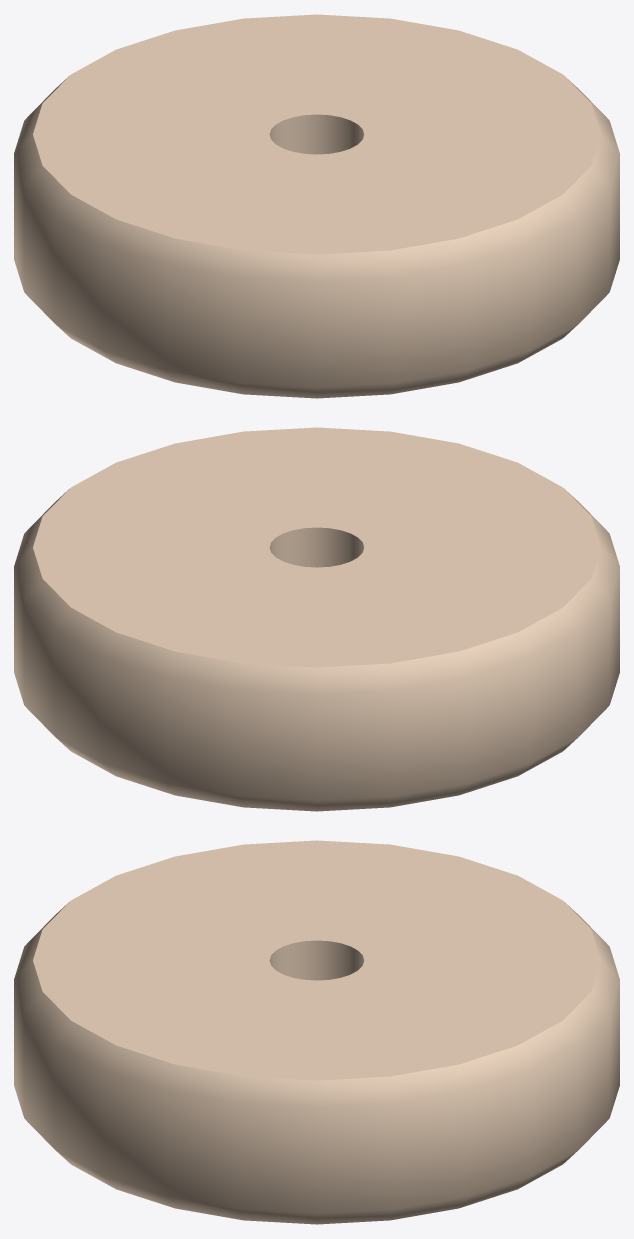
File: ring2.gltf
3 renders of one model, top to bottom at view 1: azimuth 30°, elevation 25°; view 2: azimuth 150°, elevation 25°; view 3: azimuth 270°, elevation 25°, orthographic.
Visible parts, largest first — view 1: 2; view 2: 2; view 3: 2.
Boxes of the visible parts, left/top/right/bottom form: 2: left=14, top=14, right=619, bottom=398; 2: left=14, top=427, right=619, bottom=811; 2: left=14, top=840, right=619, bottom=1224.
Bounding box in the file's own units: 0.5852 × 0.1534 × 0.5852.
